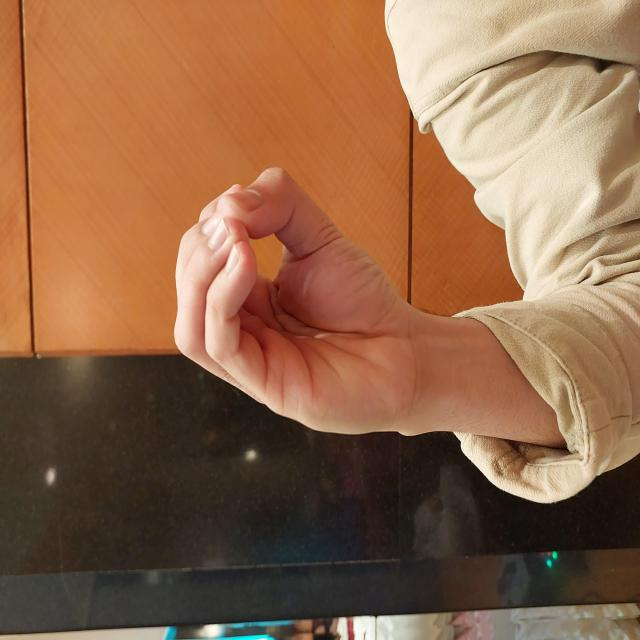O: (205, 173, 477, 418)
